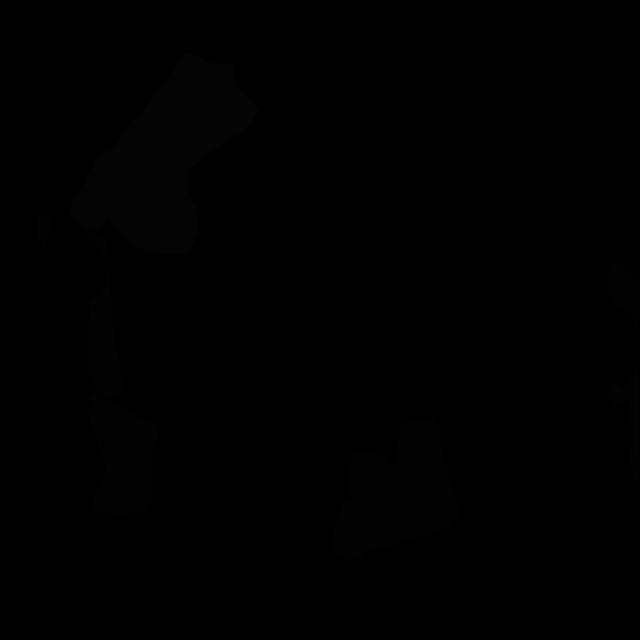cardboard: (331, 419, 461, 560), (88, 394, 160, 516), (86, 269, 125, 398), (607, 363, 640, 481), (606, 259, 640, 332), (77, 222, 108, 259), (36, 214, 54, 252)
soft_plastic: (69, 52, 260, 254)
